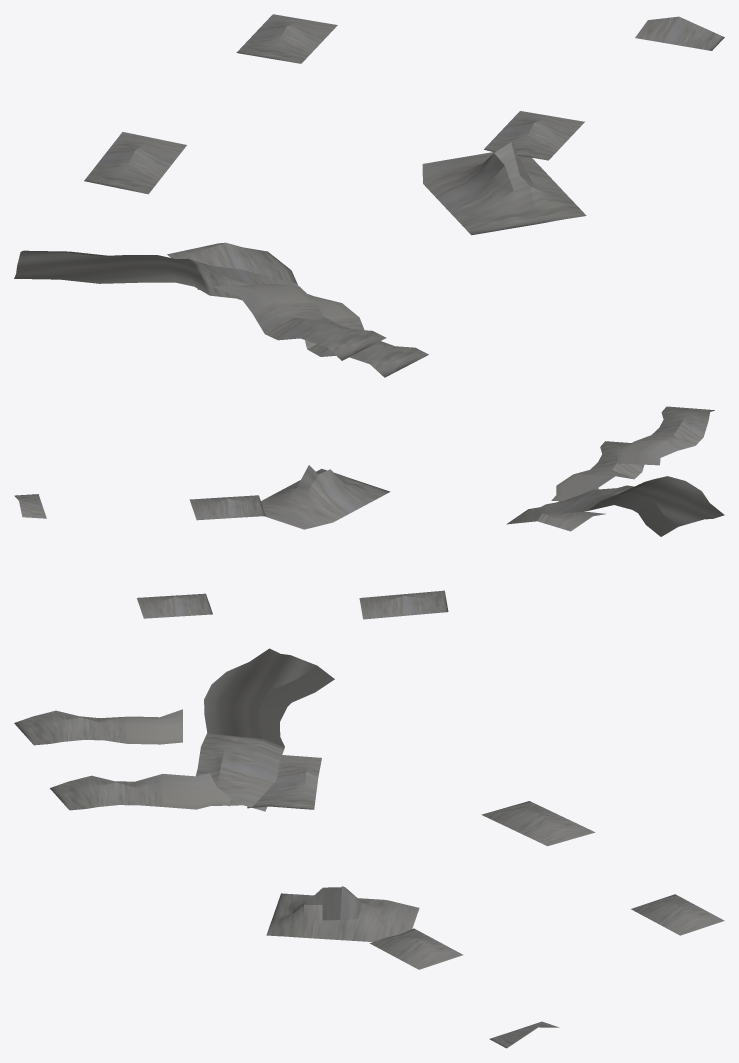
File: CorridorSculpture_02.fbx
3 views of the same model, one above another, from view 1: azimuth 30°, elevation 25°; view 2: azimuth 150°, elevation 25°; view 3: azimuth 270°, elevation 25° (orthographic). The views are drawn at different scales.
Parts seen in each view (by area): view 1: CorridorSculpture_02; view 2: CorridorSculpture_02; view 3: CorridorSculpture_02.
Part boxes in pixels (x1,y1,x2,y2): CorridorSculpture_02: (14,14,724,377); CorridorSculpture_02: (14,406,724,619); CorridorSculpture_02: (14,648,724,1048).
Size of the model in its own units: 4956 by 426 by 4386.
